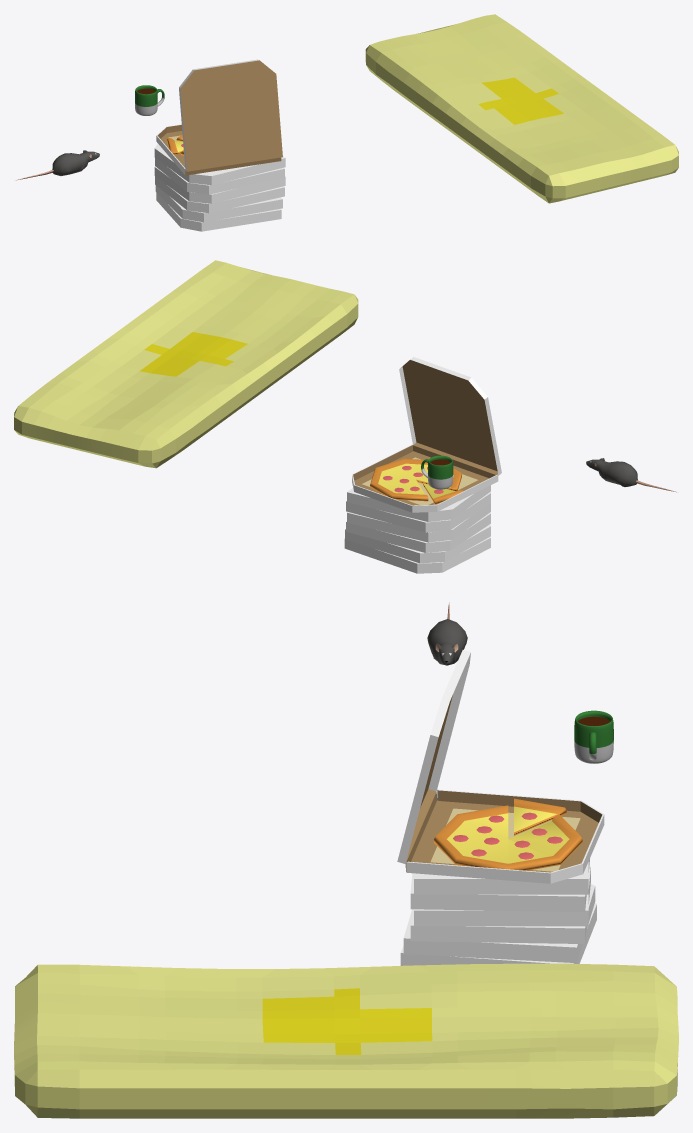
The model's file is CupOfCoffe.fbx.
3 renders of one model, top to bottom at view 1: azimuth 30°, elevation 25°; view 2: azimuth 150°, elevation 25°; view 3: azimuth 270°, elevation 25°, orthographic. The views are drawn at different scales.
Visible parts, largest first — view 1: mattress001, Pizza, rat, cup of coffe; view 2: mattress001, Pizza, rat, cup of coffe; view 3: mattress001, Pizza, cup of coffe, rat.
Boxes of the visible parts, x1,y1,x2,y2 form: mattress001: (365, 14, 678, 203); Pizza: (154, 59, 285, 231); rat: (16, 150, 99, 180); cup of coffe: (135, 85, 164, 115); mattress001: (14, 260, 358, 468); Pizza: (344, 357, 501, 573); rat: (586, 458, 676, 492); cup of coffe: (421, 455, 453, 489); mattress001: (14, 963, 678, 1118); Pizza: (397, 649, 604, 965); cup of coffe: (574, 710, 613, 763); rat: (427, 602, 467, 665).
Size of the model in its own units: 7531 by 2003 by 4622.
